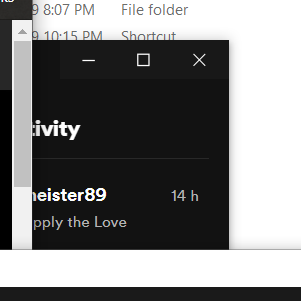close: (183, 45, 214, 74)
